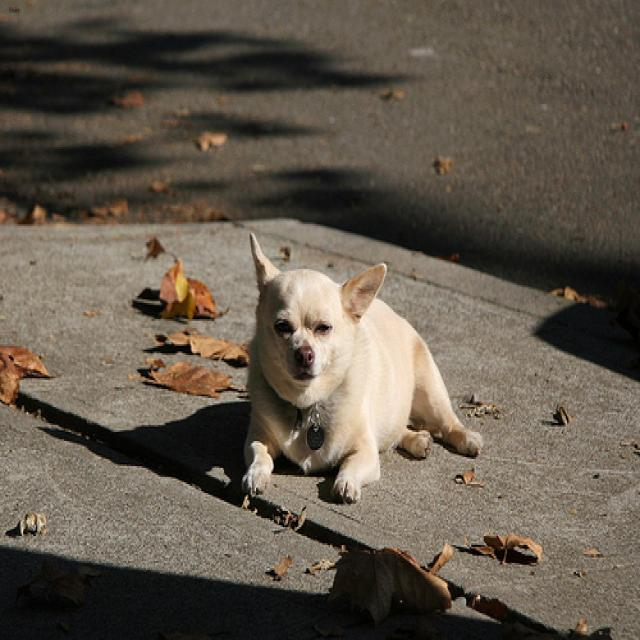dog-chihuahua: (236, 219, 492, 511)
